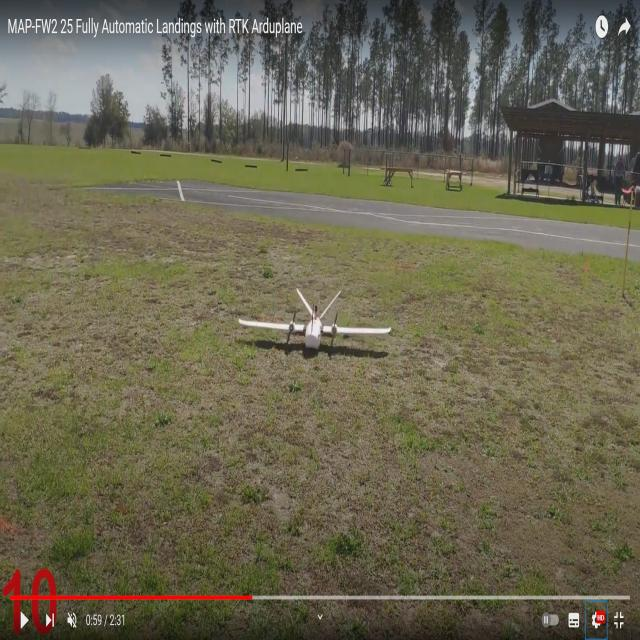iha: (237, 319, 394, 324)
